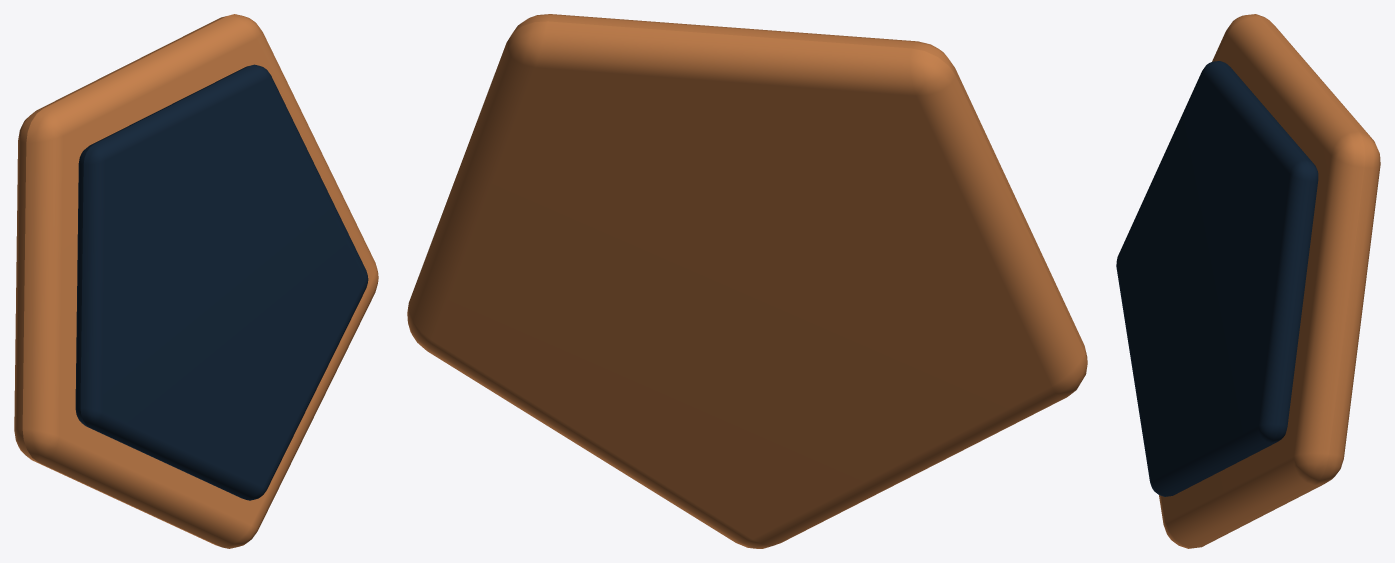
Rendered from badge-bronze.glb.
3 views of the same model, side by side, from view 1: azimuth 30°, elevation 25°; view 2: azimuth 150°, elevation 25°; view 3: azimuth 270°, elevation 25° (orthographic). The views are drawn at different scales.
Visible parts, largest first — view 1: Empty smooth face badge-bronze, Rounded pentagon backing badge-bronze; view 2: Rounded pentagon backing badge-bronze; view 3: Empty smooth face badge-bronze, Rounded pentagon backing badge-bronze.
Boxes of the visible parts, bbox=[...] form: Empty smooth face badge-bronze: bbox=[75, 64, 368, 500]; Rounded pentagon backing badge-bronze: bbox=[14, 14, 378, 548]; Rounded pentagon backing badge-bronze: bbox=[407, 14, 1087, 548]; Empty smooth face badge-bronze: bbox=[1116, 61, 1318, 496]; Rounded pentagon backing badge-bronze: bbox=[1159, 14, 1380, 548].
Size of the model in its own units: 4.26 by 4.16 by 2.2.
